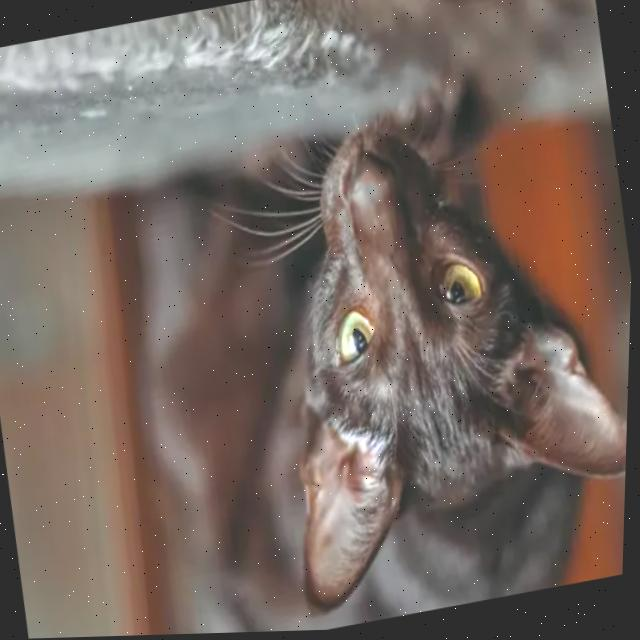Oriental: (93, 43, 639, 637)
